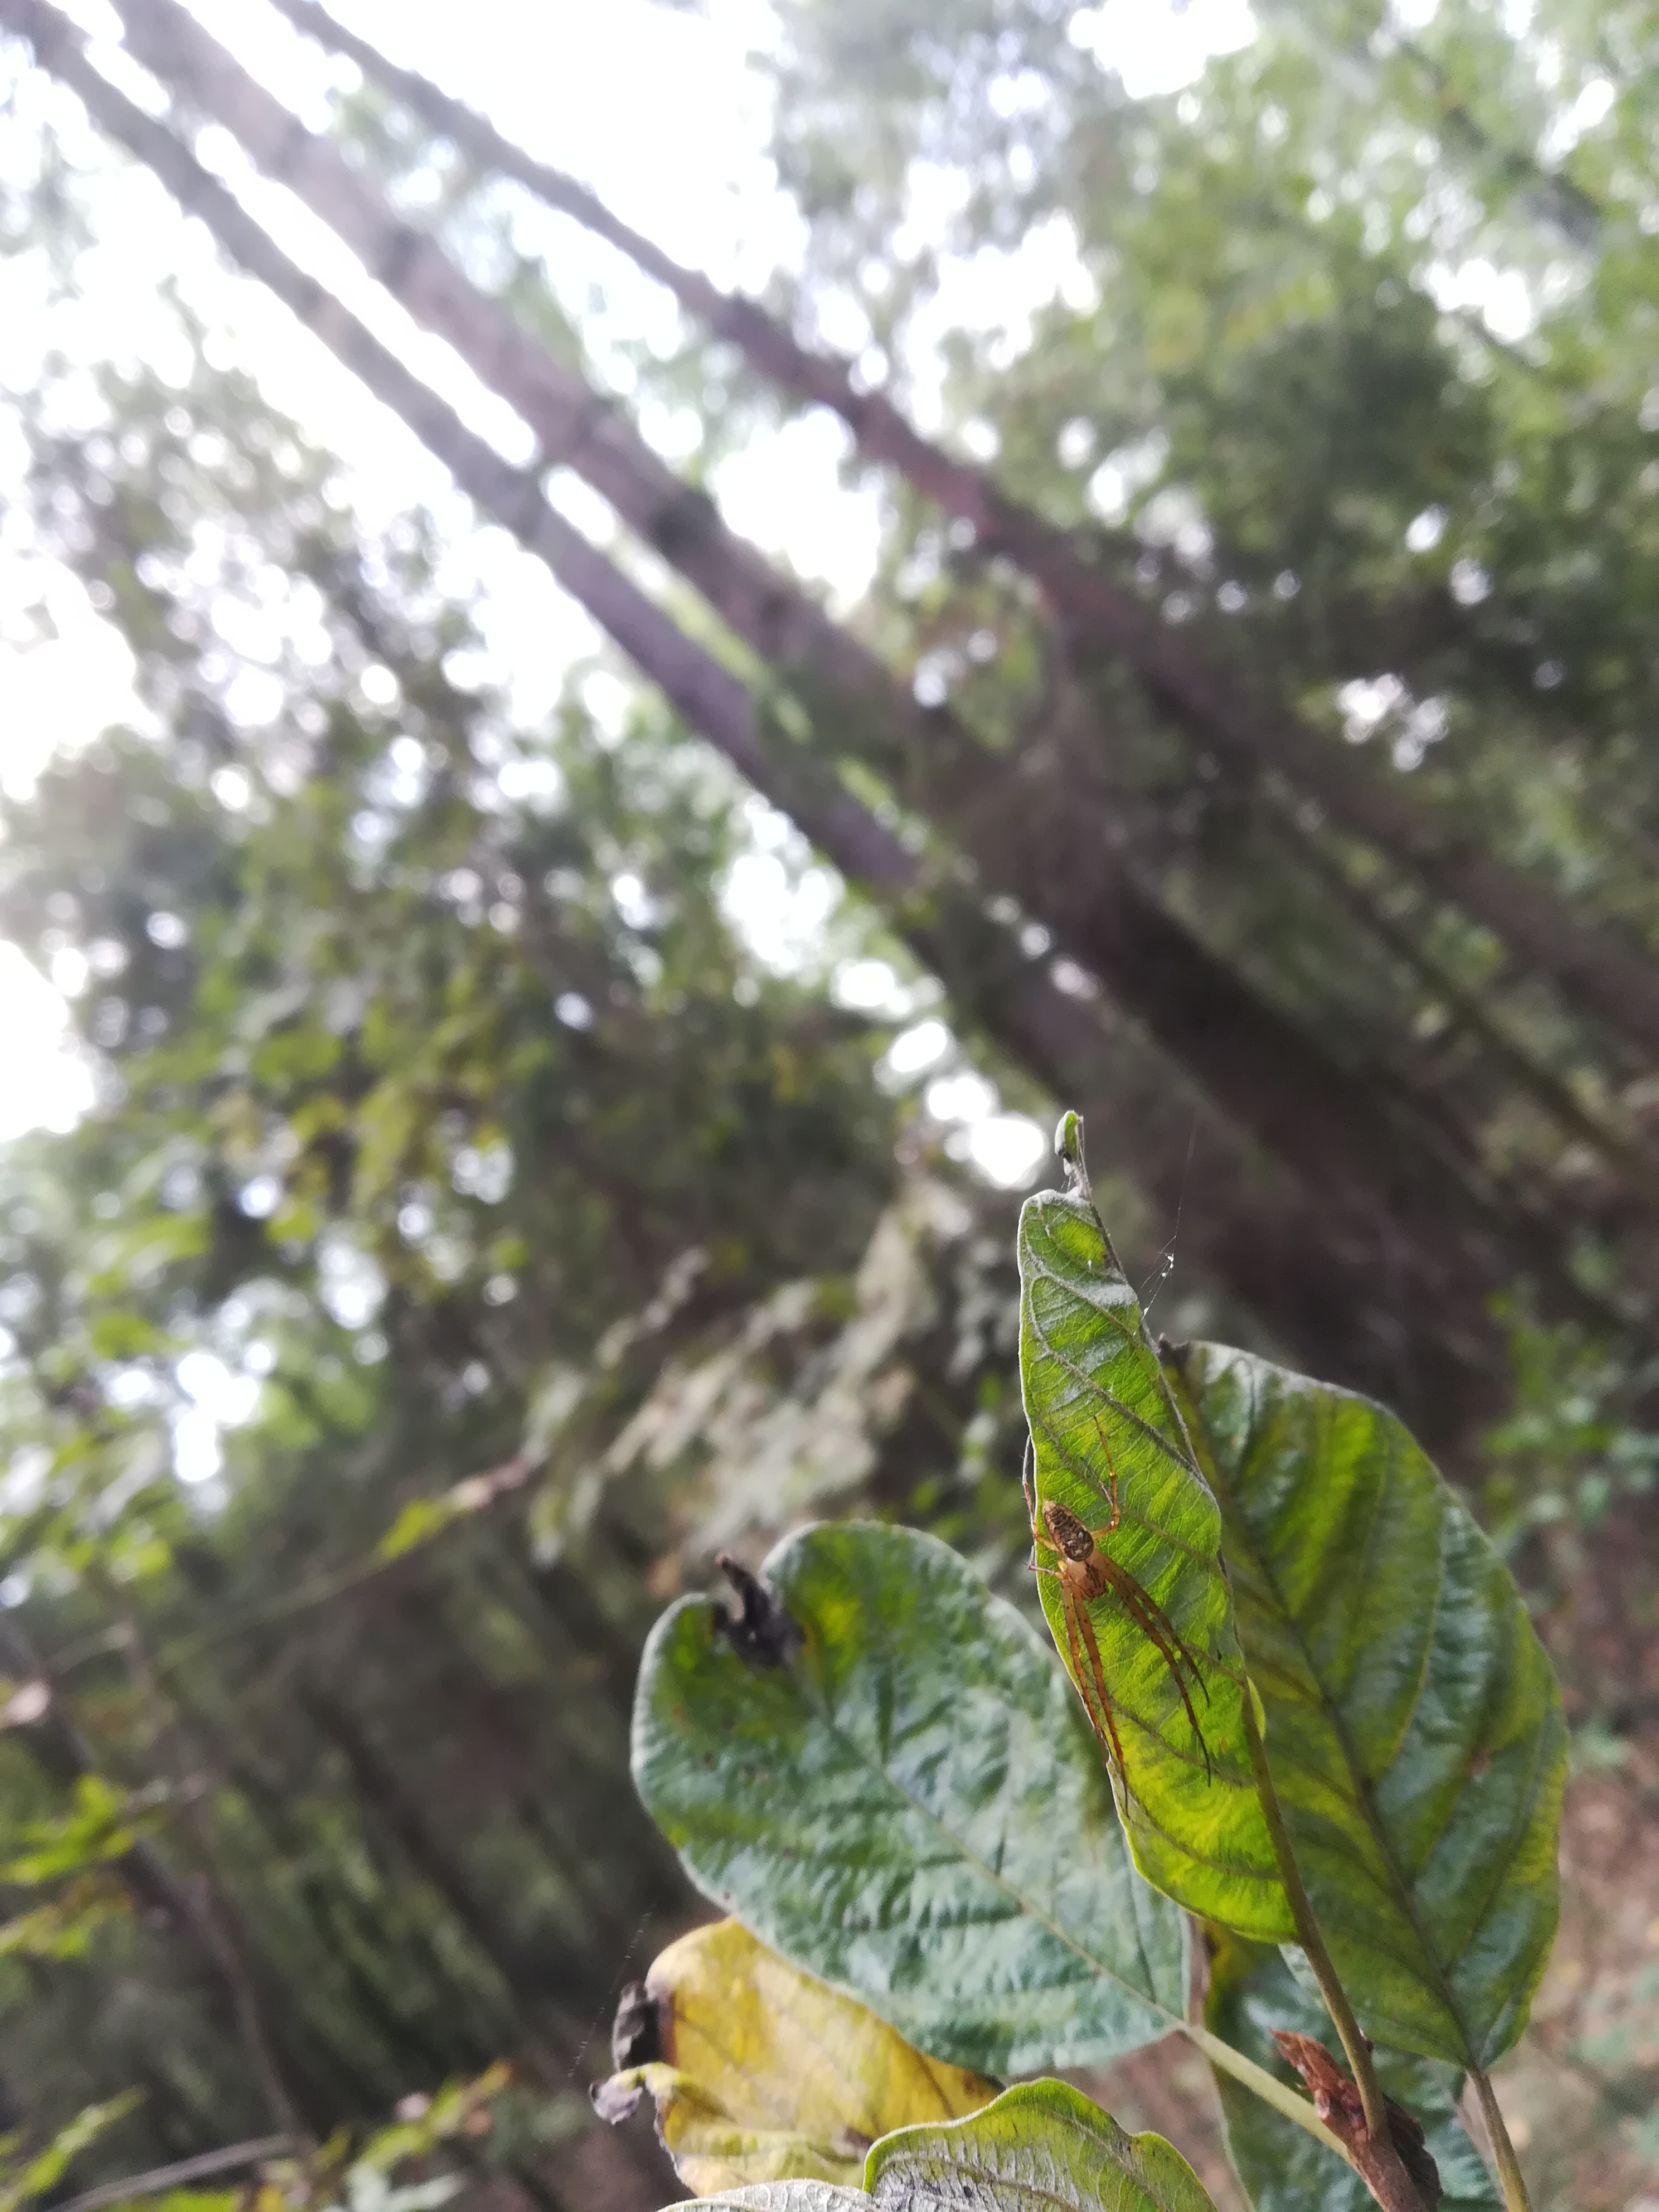spider: (1002, 1430, 1222, 1787)
